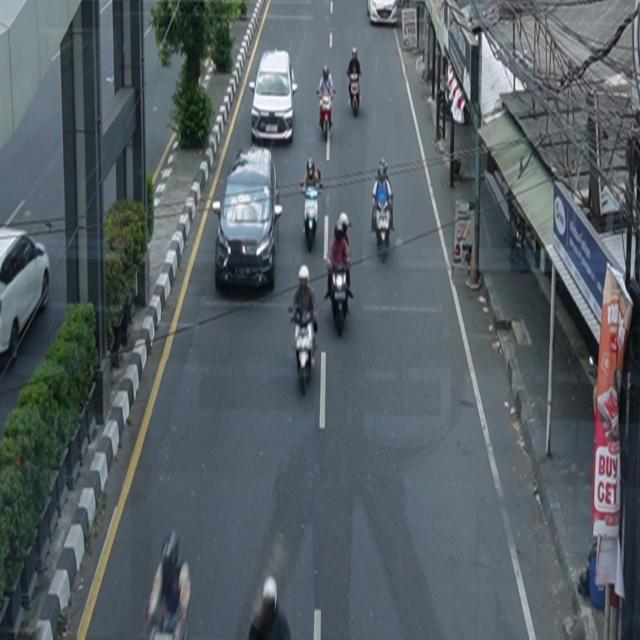car: (213, 146, 283, 293), (1, 226, 51, 364), (249, 50, 299, 146)
